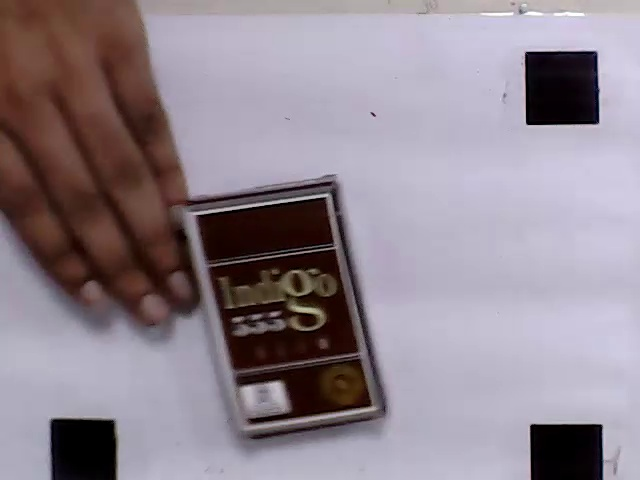BEX: (191, 196, 376, 426)
